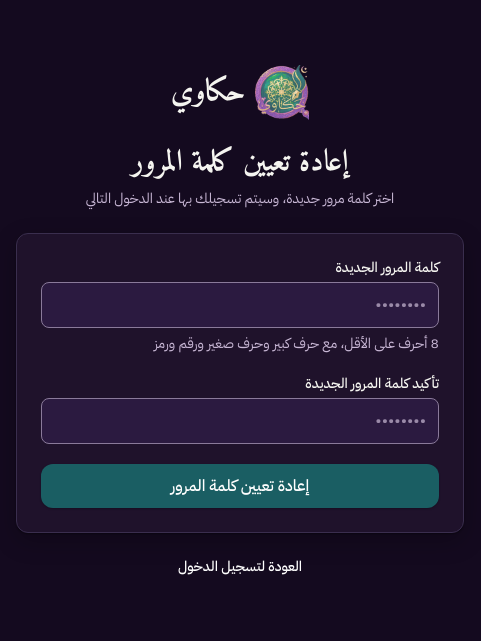
reset password page › renders the server failure of a rejected token
Type "NewSecurePass123!" into the password field labelled "كلمة المرور الجديدة" at (240, 305), box x1=41 y1=282 x2=439 y2=328
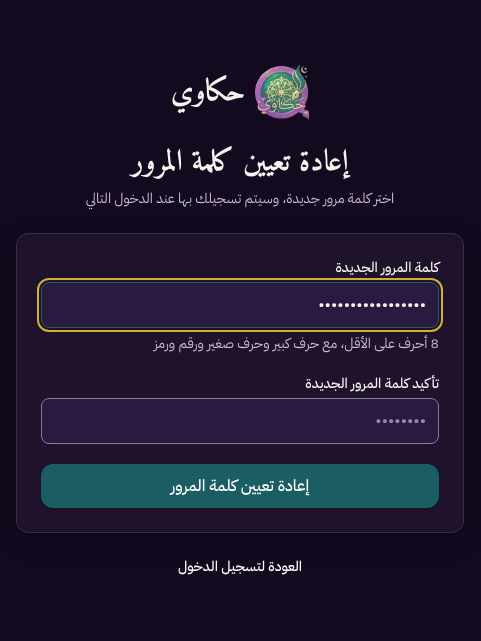
Type "NewSecurePass123!" into the password field labelled "تأكيد كلمة المرور الجديدة" at (240, 421), box x1=41 y1=398 x2=439 y2=444
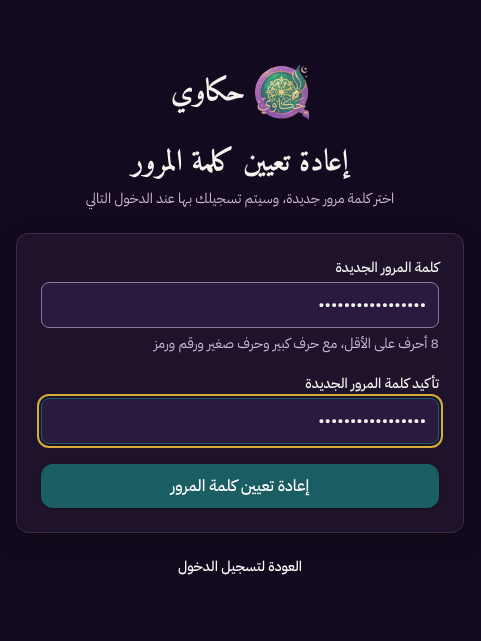
Click the button "إعادة تعيين كلمة المرور" at (240, 486), box x1=41 y1=464 x2=439 y2=508
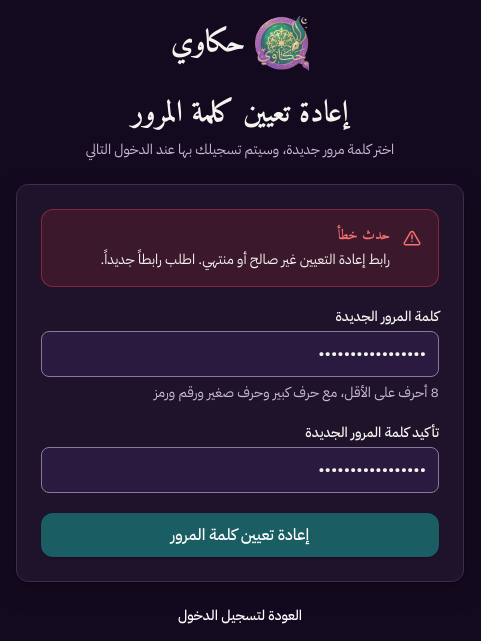
Expected: the text "رابط إعادة التعيين غير صالح أو منتهي. اطلب رابطاً جديداً." is shown, x1=58 y1=250 x2=390 y2=270
